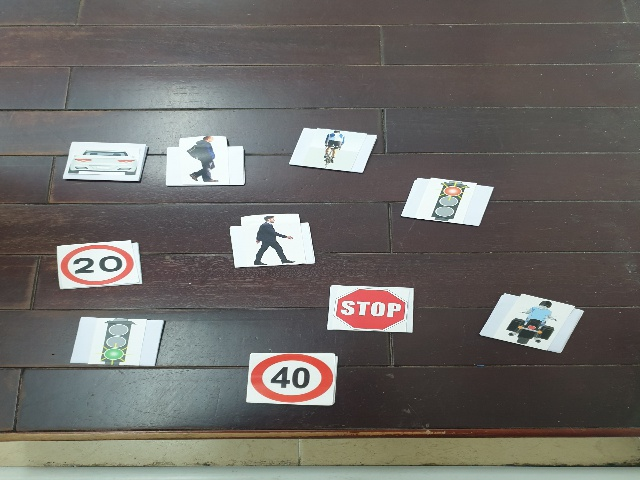Car: (67, 149, 141, 178)
Cyclist: (320, 129, 346, 168)
Green Light: (93, 317, 137, 366)
Limit 20: (60, 245, 135, 285)
Limit 40: (251, 353, 334, 402)
Motorcycle: (507, 299, 556, 348)
Person: (251, 216, 294, 264), (186, 137, 221, 185)
Red Light: (429, 181, 472, 222)
Stop: (333, 288, 406, 330)
